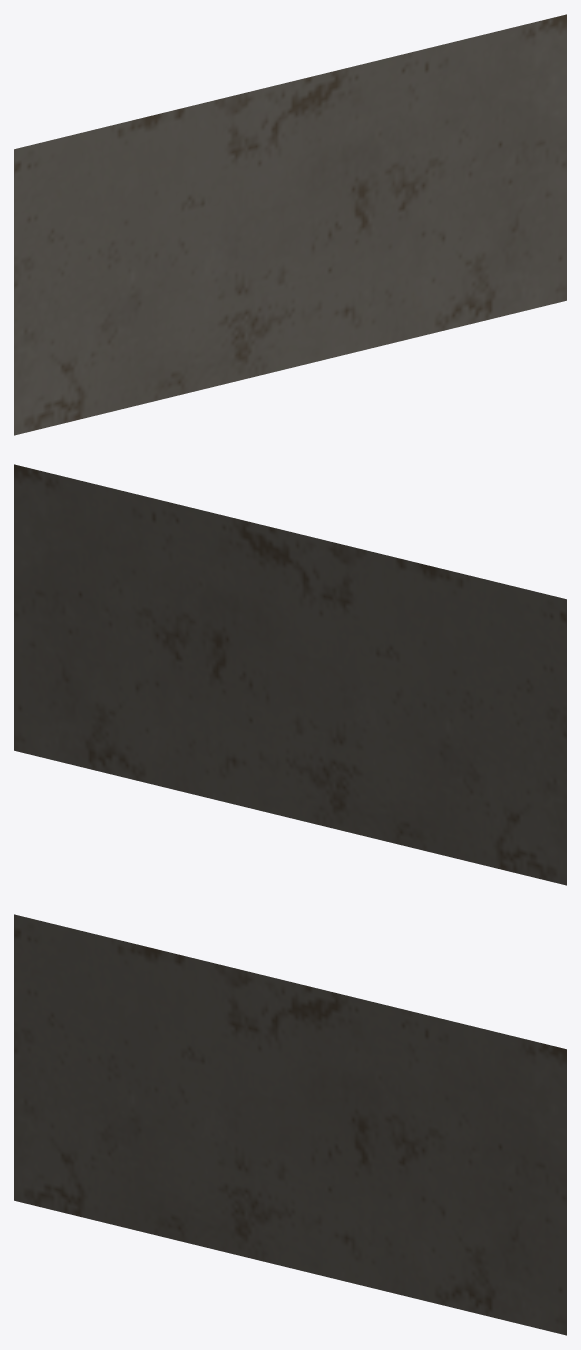
The model's file is Short Wall neighbor's house.fbx.
3 renders of one model, top to bottom at view 1: azimuth 30°, elevation 25°; view 2: azimuth 150°, elevation 25°; view 3: azimuth 330°, elevation 25°, orthographic.
Parts seen in each view (by area): view 1: Parede Cozinha.002; view 2: Parede Cozinha.002; view 3: Parede Cozinha.002.
Part boxes in pixels (x1=…): Parede Cozinha.002: x1=14, y1=14, x2=566, y2=435; Parede Cozinha.002: x1=14, y1=464, x2=566, y2=885; Parede Cozinha.002: x1=14, y1=914, x2=566, y2=1335.
Size of the model in its own units: 606 by 300 by 0.
